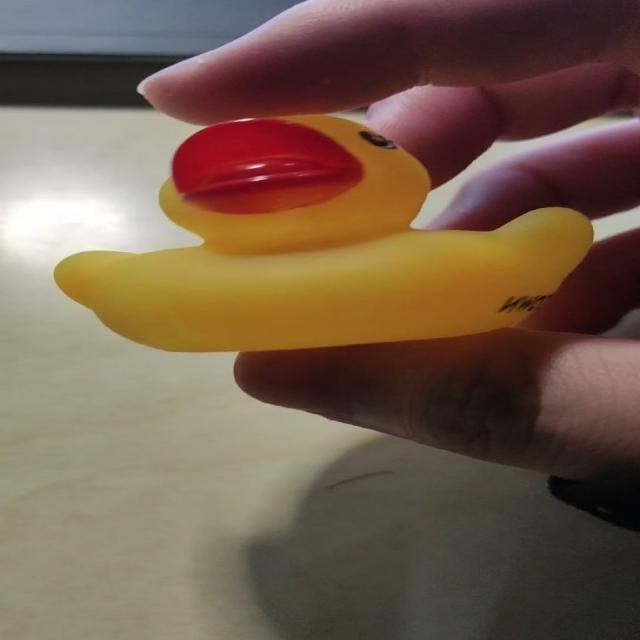rubber-duck: (54, 114, 590, 349)
